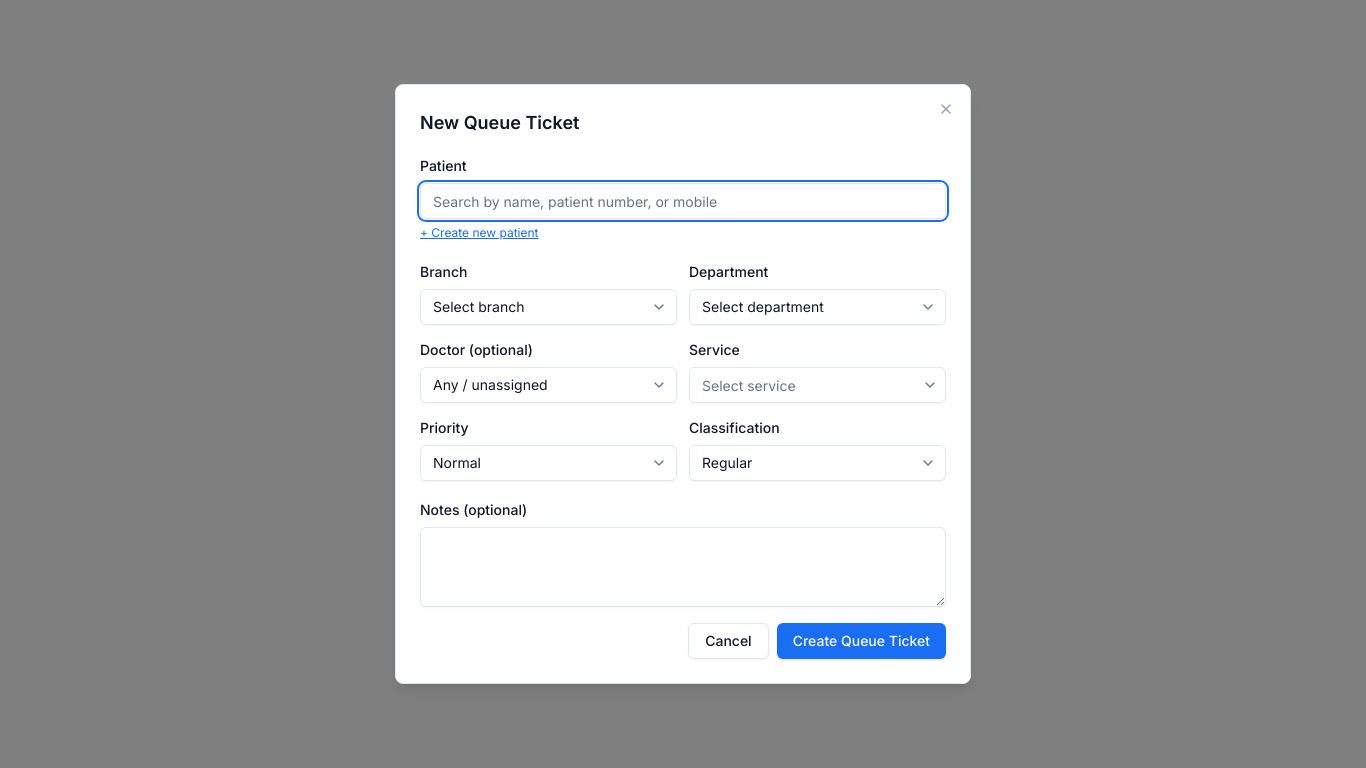
it: NewQueueDialog › B: selecting the Laboratory department switches the flow to pay-first (hides doctor, changes the button)
Type "Juan" into the field with placeholder "Search by name, patient number, or mobile" at (683, 201), box [420,183,946,219]
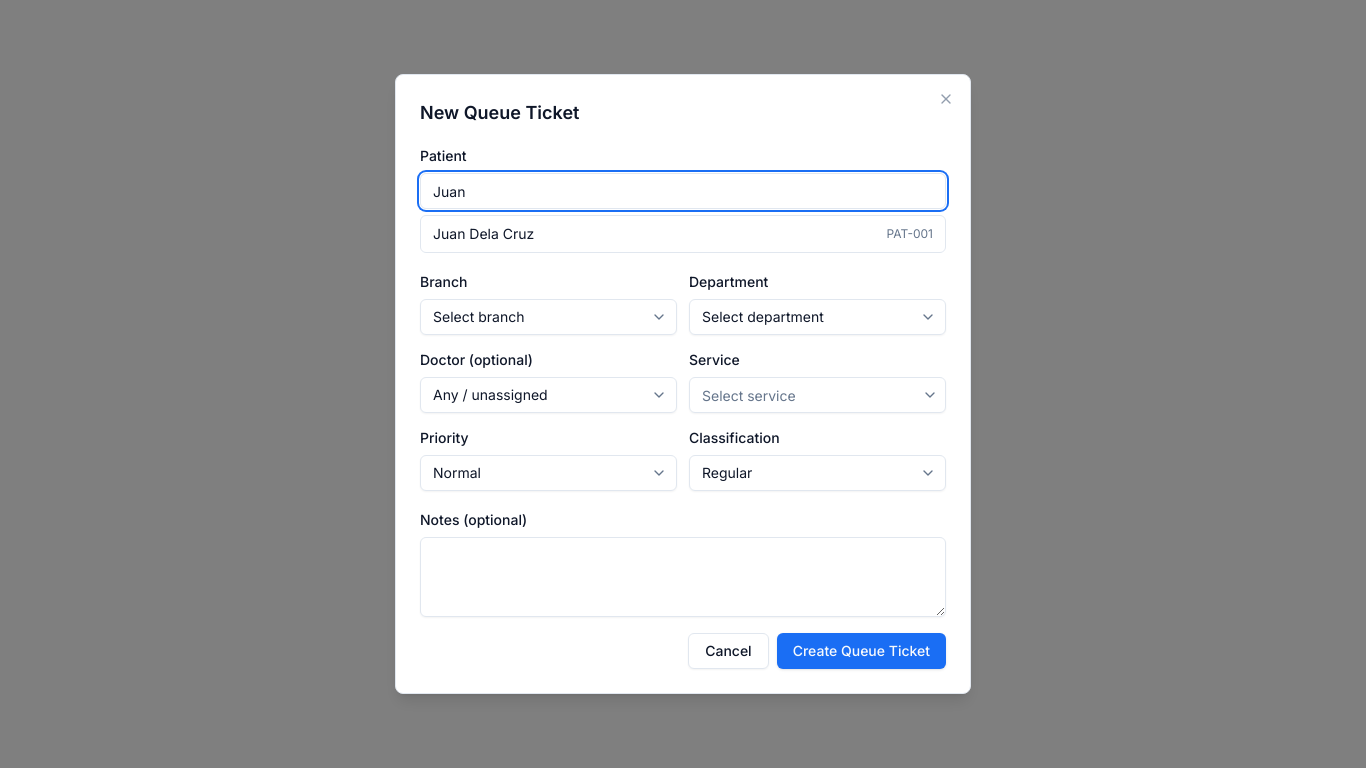
Click the text "Juan Dela Cruz" at (484, 234), box [433,224,534,244]
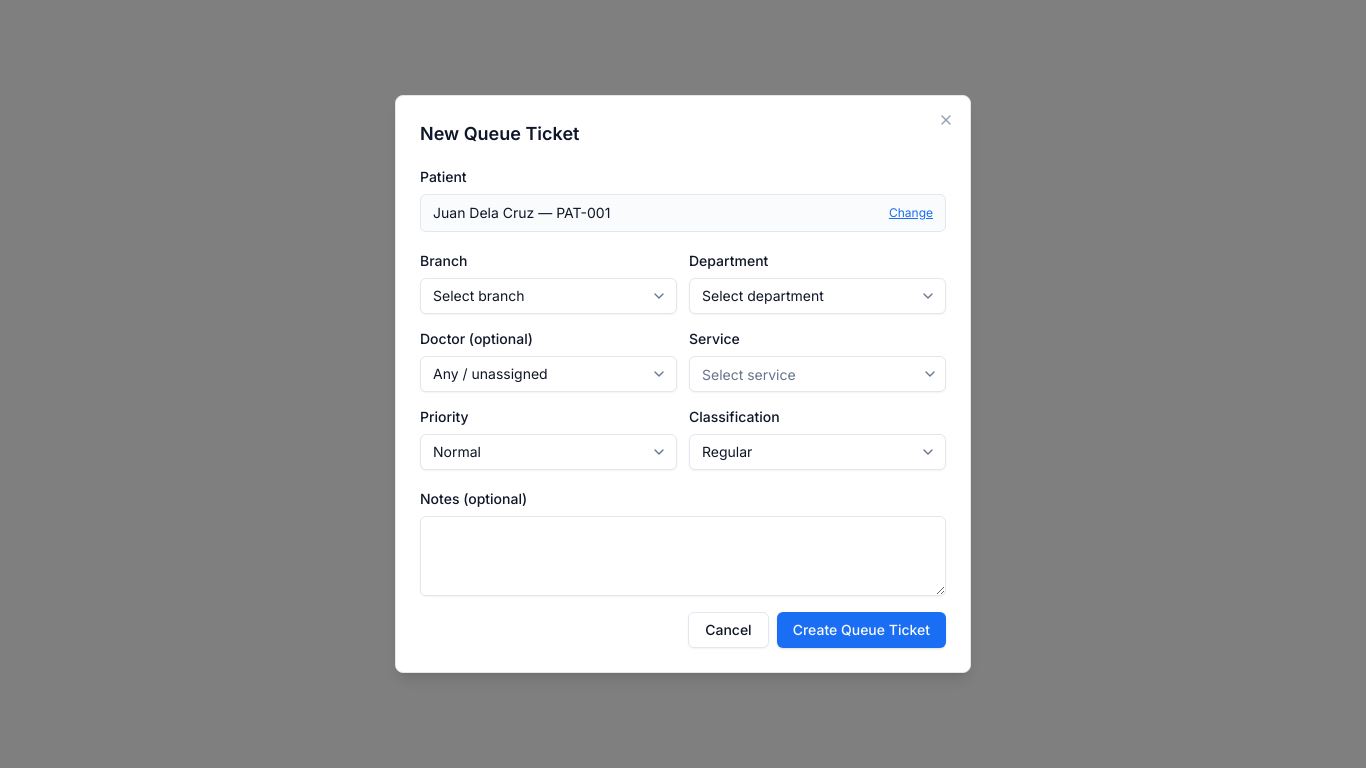
Select "Laboratory" in the dropdown below "Department" at (818, 296), box [689,278,946,314]
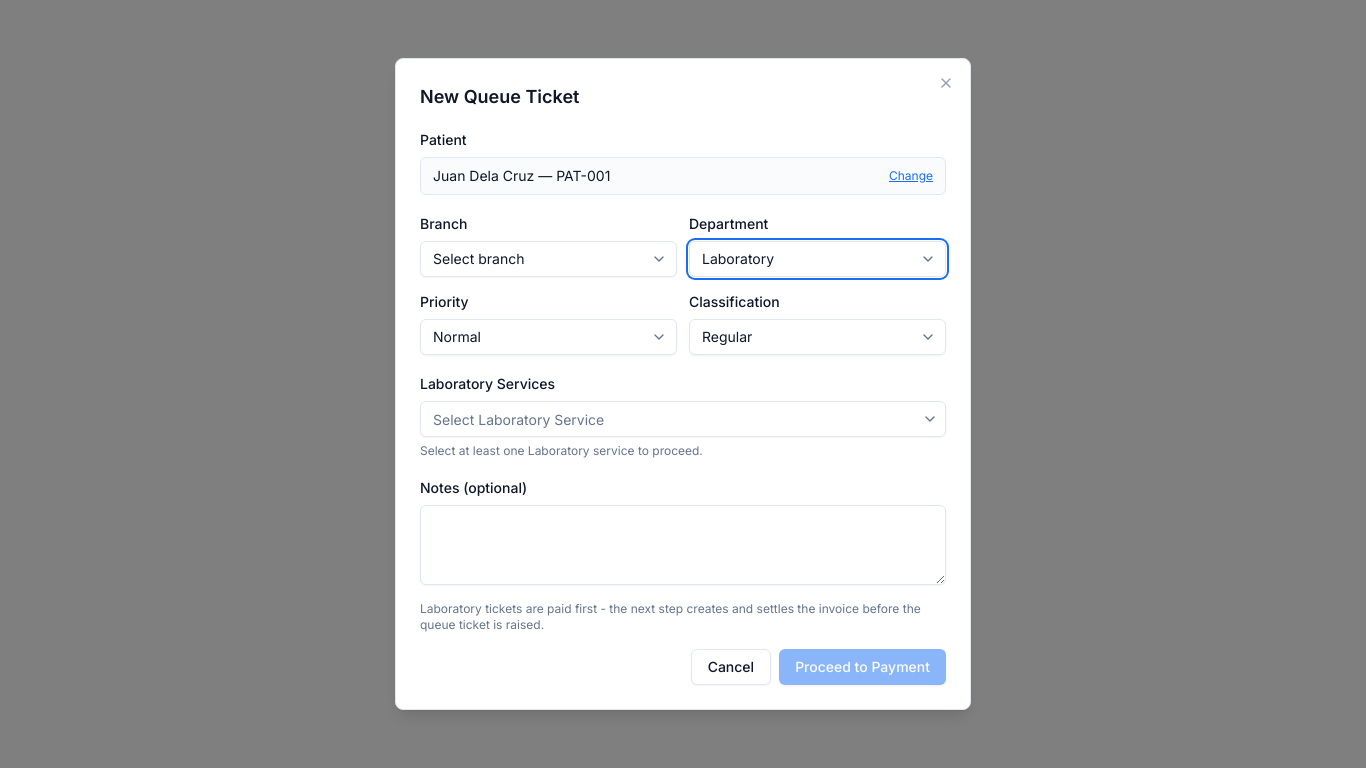
Now the text "Doctor" is gone
Now the button "Proceed to Payment" is shown, box [779,649,946,685]
Now the button "Create Queue Ticket" is gone
